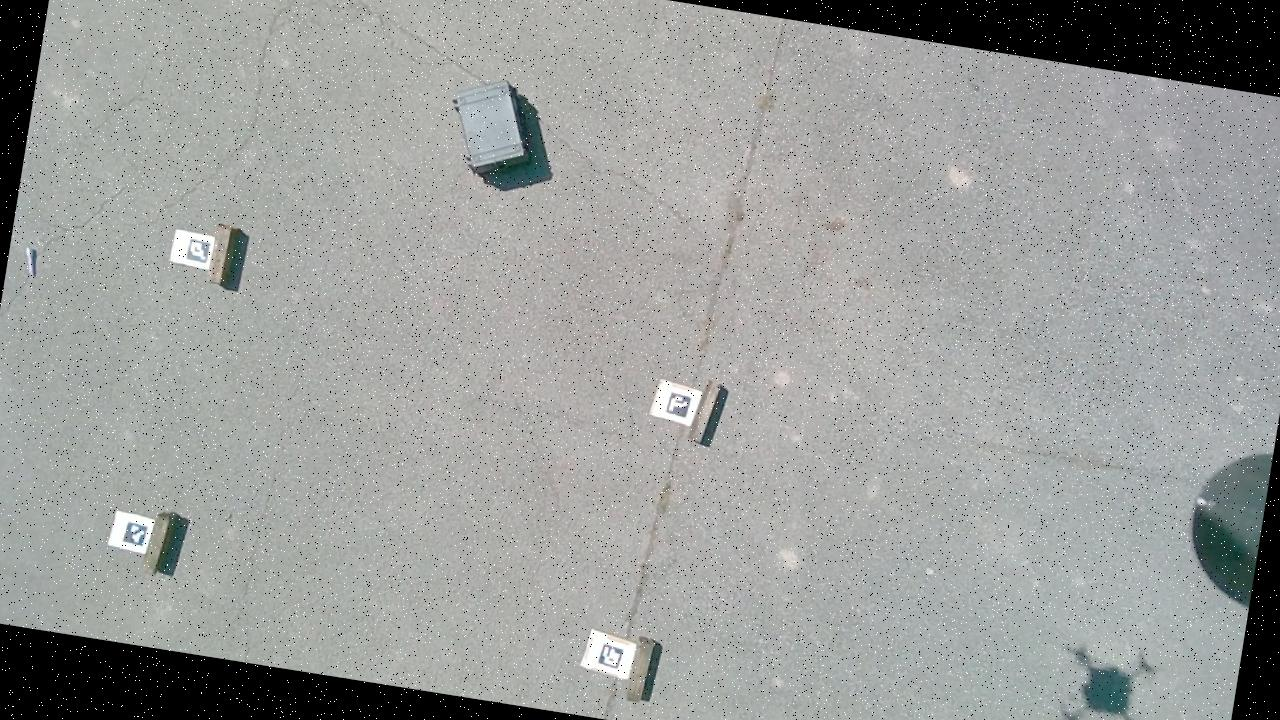probes: (22, 248, 39, 278)
rako: (442, 74, 534, 179)
